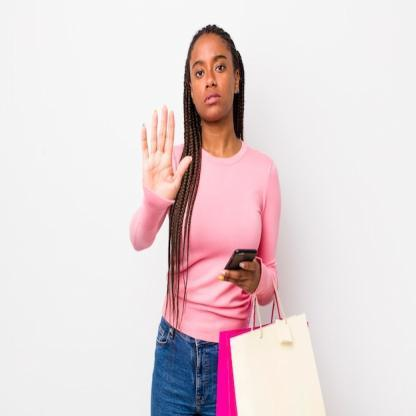stop: (140, 104, 194, 208)
